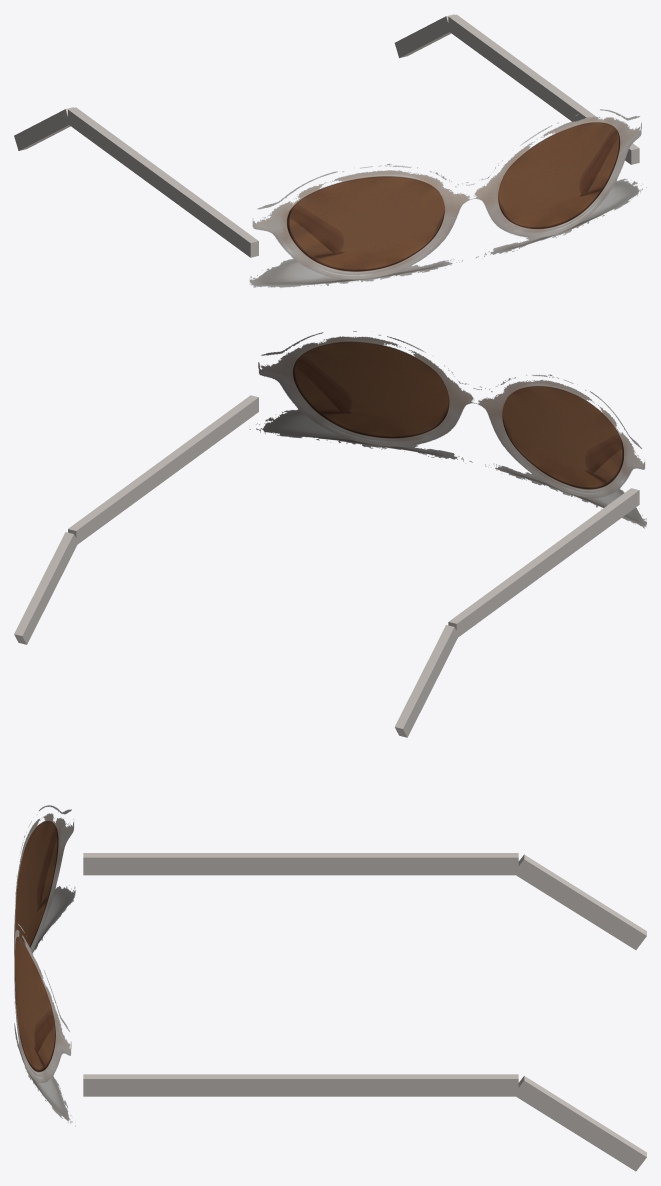
3 views of the same model, one above another, from view 1: azimuth 30°, elevation 25°; view 2: azimuth 150°, elevation 25°; view 3: azimuth 270°, elevation 25° (orthographic). The views are drawn at different scales.
Visible parts, largest first — view 1: anteojo; view 2: anteojo; view 3: anteojo.
Part boxes in pixels (x1,y1,x2,y2): anteojo: (14, 14, 646, 287); anteojo: (14, 331, 646, 737); anteojo: (14, 805, 646, 1171).
Bounding box in the file's own units: 0.142 × 0.0507 × 0.1644.
Materials: 2 (1 with a texture image).
